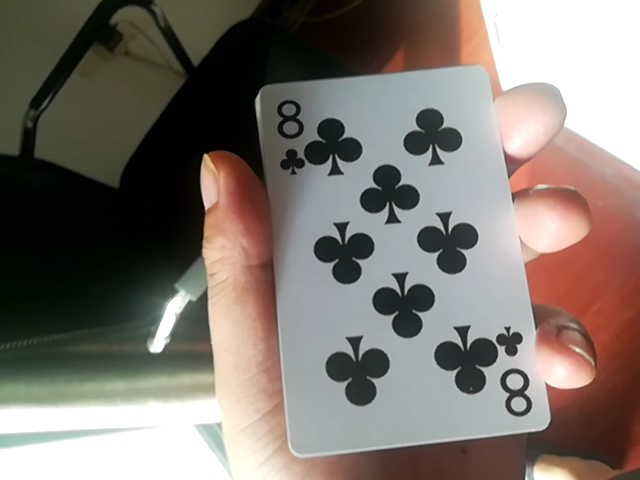mh 8: (260, 38, 575, 465)
